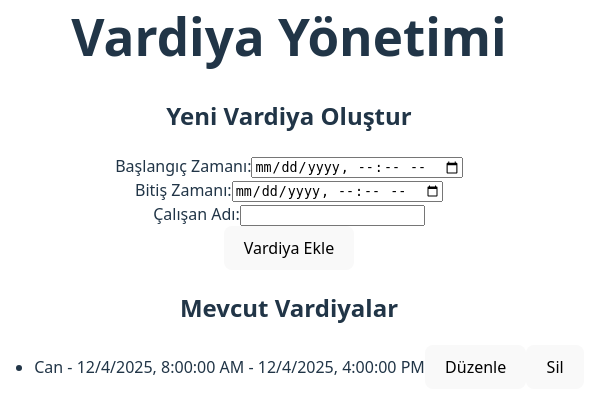
Vardiya Yönetimi › kullanıcı vardiya silebilmeli
Click the button "Sil". click: (555, 368)
box: [526, 346, 583, 389]
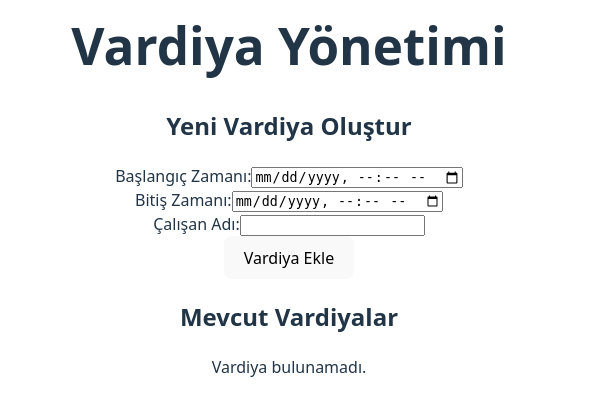
Expected: the list item "Can" is gone
